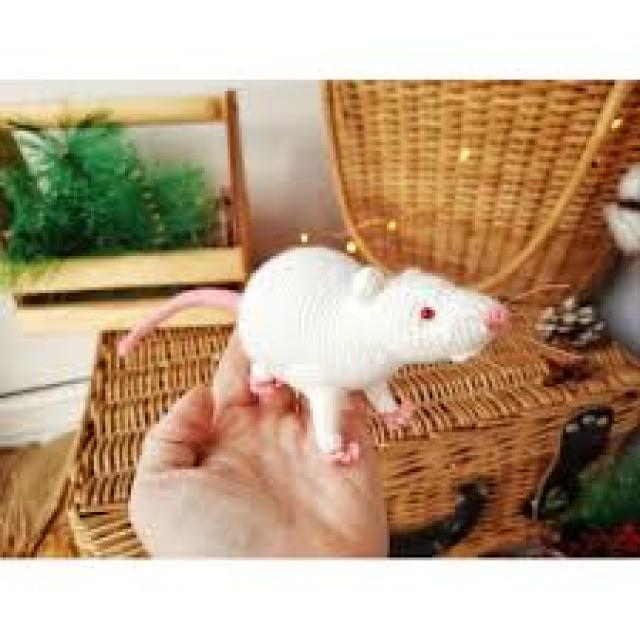Rat: (129, 179, 528, 437)
